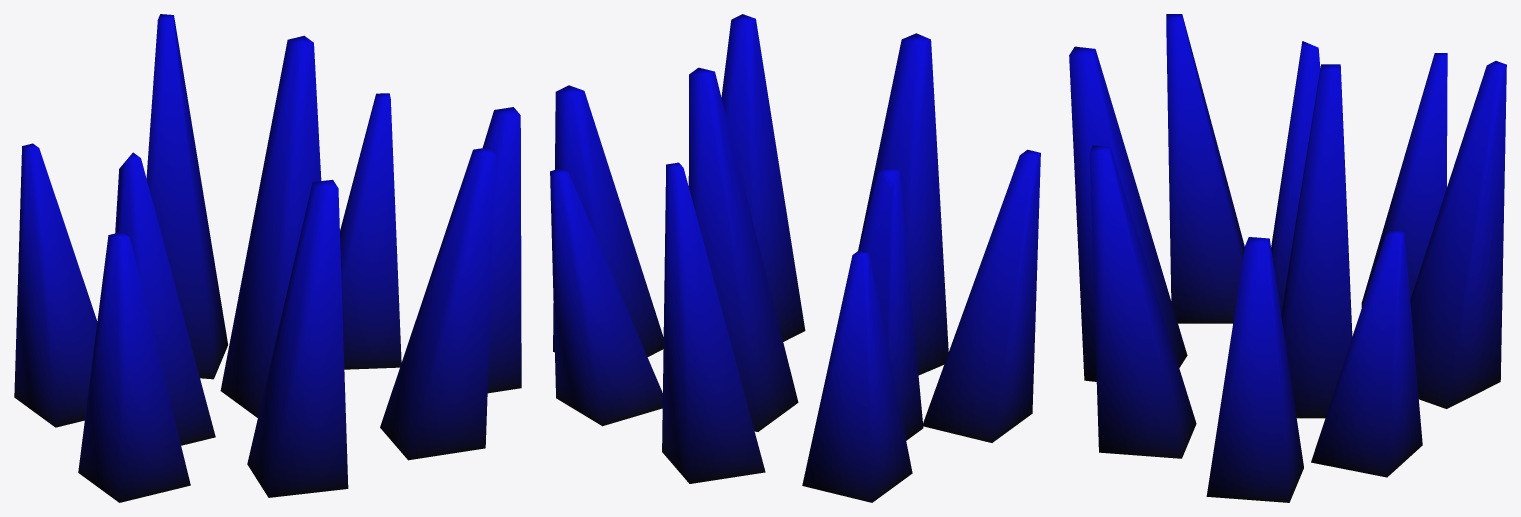
Rendered from SM_Grass.FBX.
3 renders of one model, left to right at view 1: azimuth 30°, elevation 25°; view 2: azimuth 150°, elevation 25°; view 3: azimuth 270°, elevation 25°, orthographic. The views are drawn at different scales.
Parts seen in each view (by area): view 1: Grass; view 2: Grass; view 3: Grass.
Boxes of the visible parts, x1,y1,x2,y2 form: Grass: [14, 14, 521, 502]; Grass: [550, 14, 1040, 502]; Grass: [1069, 14, 1506, 502].
Bounding box in the file's own units: 29.14 × 21.3 × 24.25.
